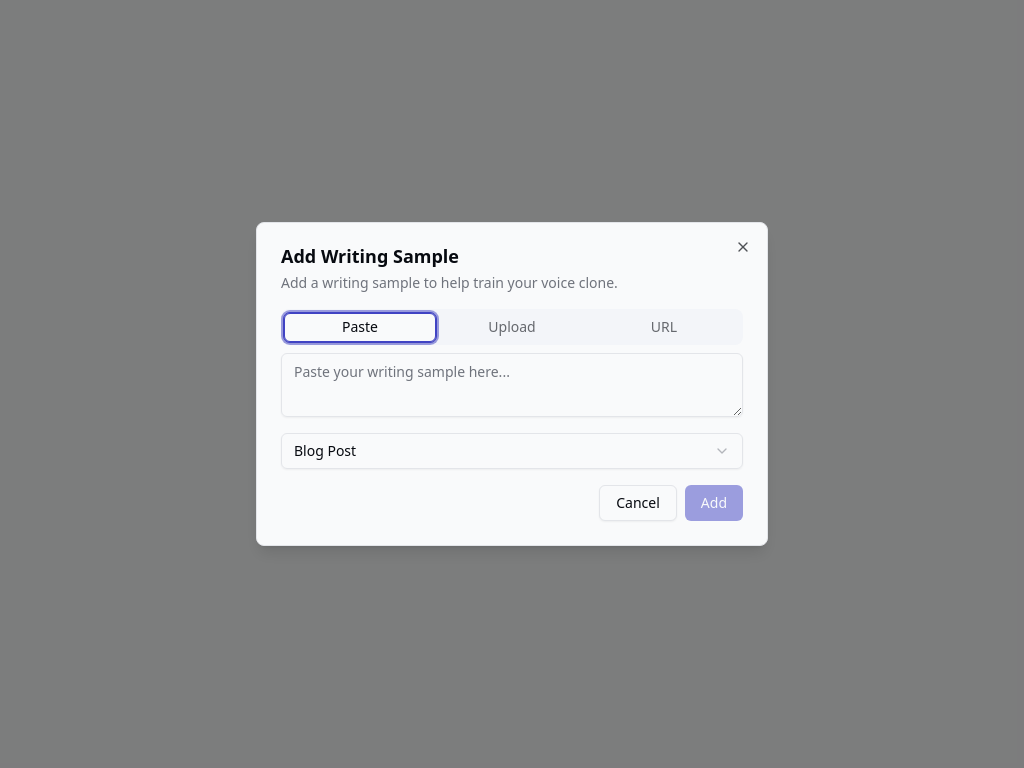
Test: AddSampleDialog › add button enabled when textarea has content
Type "Hello world" into the text box with placeholder "Paste your writing sample here...". click: (512,385)
box: [281,353,743,417]
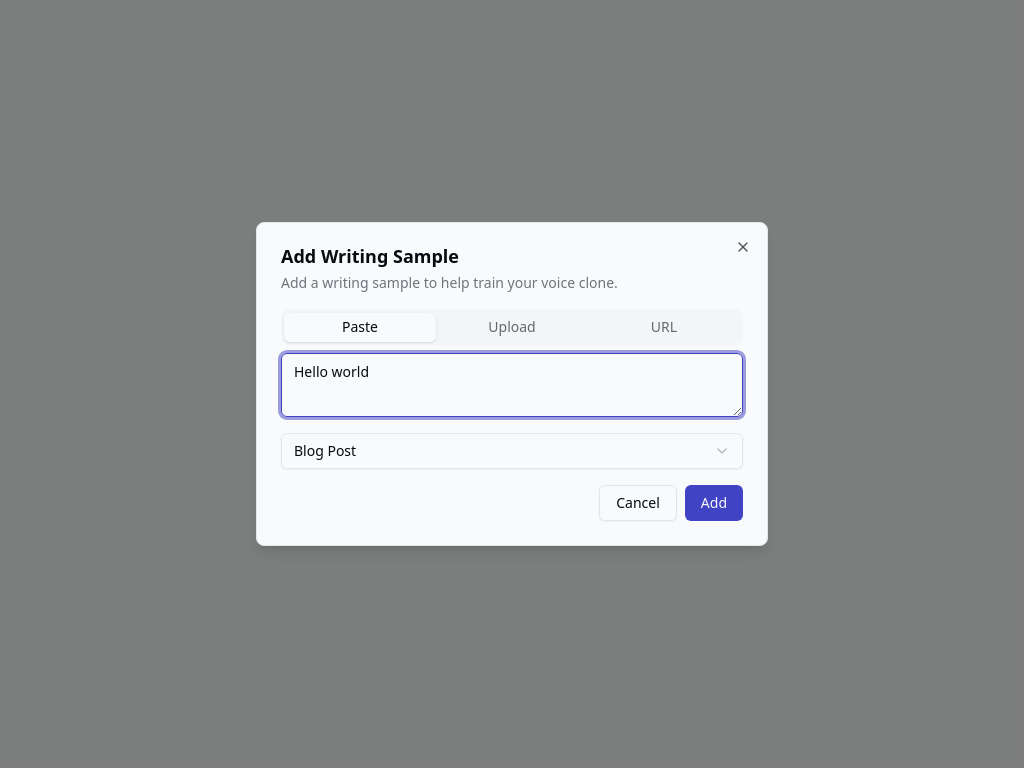
Now the button "Add" is enabled, box [685,485,743,521]
